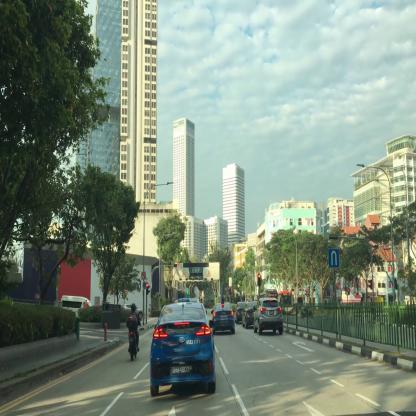red_traffic_light: (257, 273, 260, 286), (146, 282, 148, 294), (173, 263, 178, 267)
